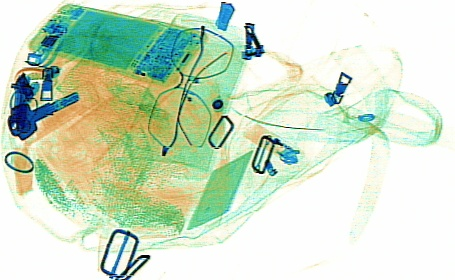lighter: (241, 122, 301, 164)
